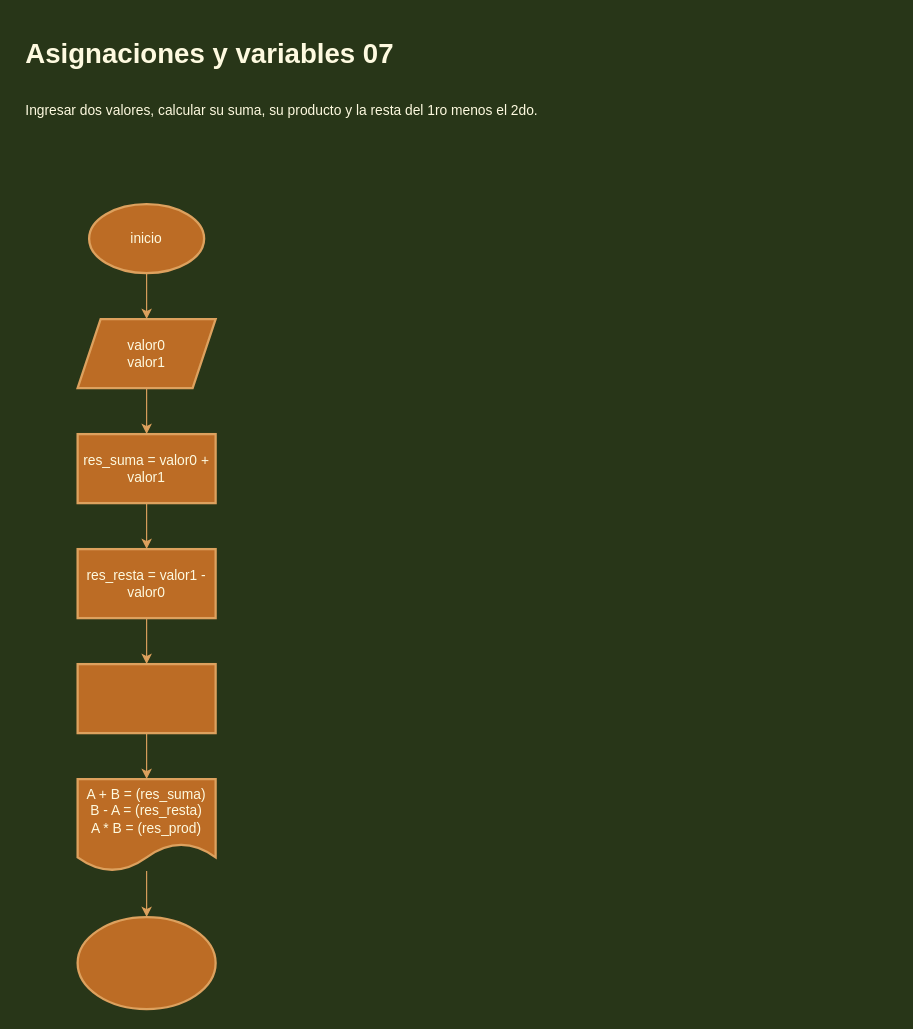
The diagram is 913 pixels wide and 1029 high, and some of its shapes have lost their labels. Here are the shapes that lost their labels. From the top down, the box of each, then its label:
(76, 662, 216, 734): res_prod = valor0 * valor1
(76, 915, 216, 1010): fin
